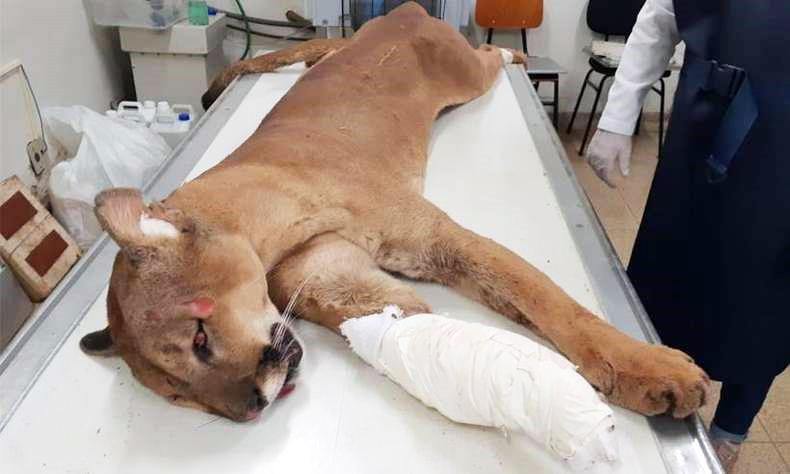OncaParda: (90, 11, 721, 447)
